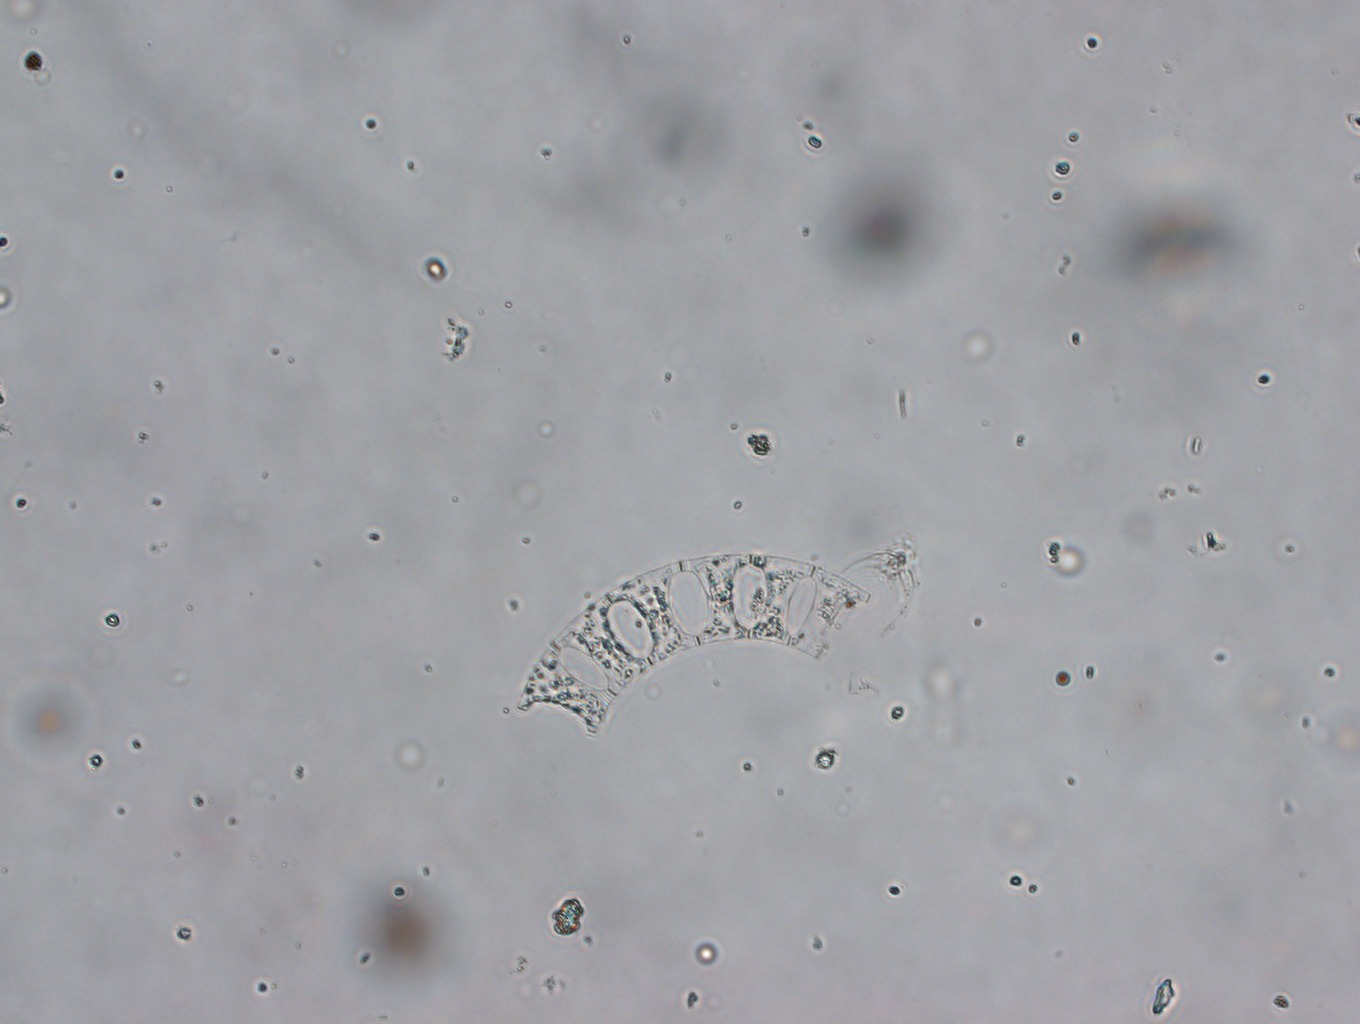eucampia: (515, 551, 872, 736)
